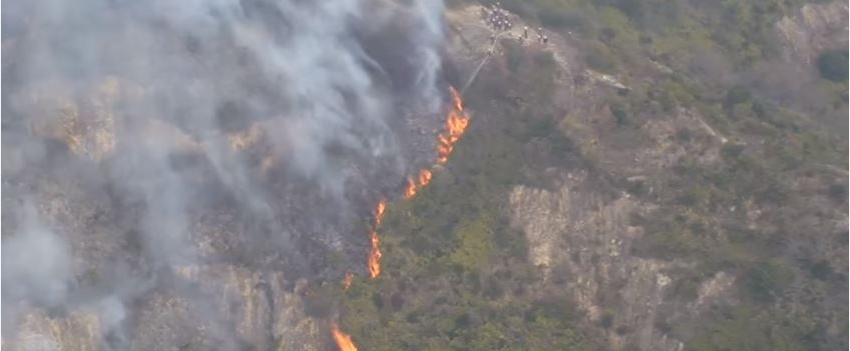山火: (367, 82, 473, 278), (328, 317, 362, 351), (341, 268, 353, 291)
烟雾: (0, 0, 464, 350)
